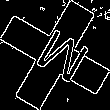M_SW: (22, 21, 88, 89)
